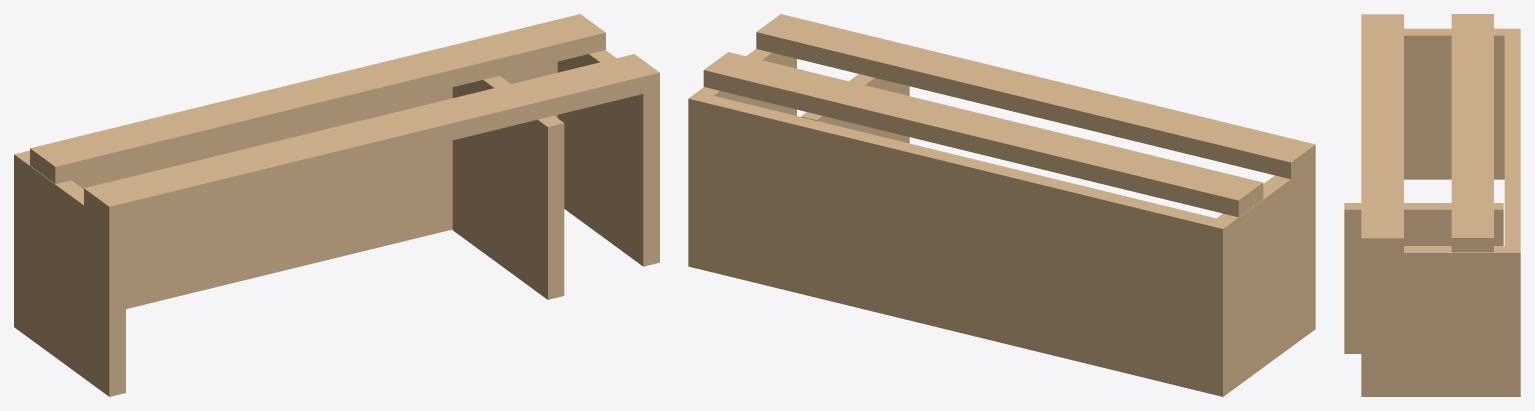
Rendered from tinker.obj.
3 renders of one model, left to right at view 1: azimuth 30°, elevation 25°; view 2: azimuth 150°, elevation 25°; view 3: azimuth 270°, elevation 25°, orthographic. The views are drawn at different scales.
Parts seen in each view (by area): view 1: obj_0; view 2: obj_0; view 3: obj_0.
Part boxes in pixels (bbox=[...]): obj_0: bbox=[14, 14, 659, 396]; obj_0: bbox=[688, 14, 1315, 396]; obj_0: bbox=[1344, 14, 1520, 396].
Bounding box in the file's own units: 500 × 165 × 166.
